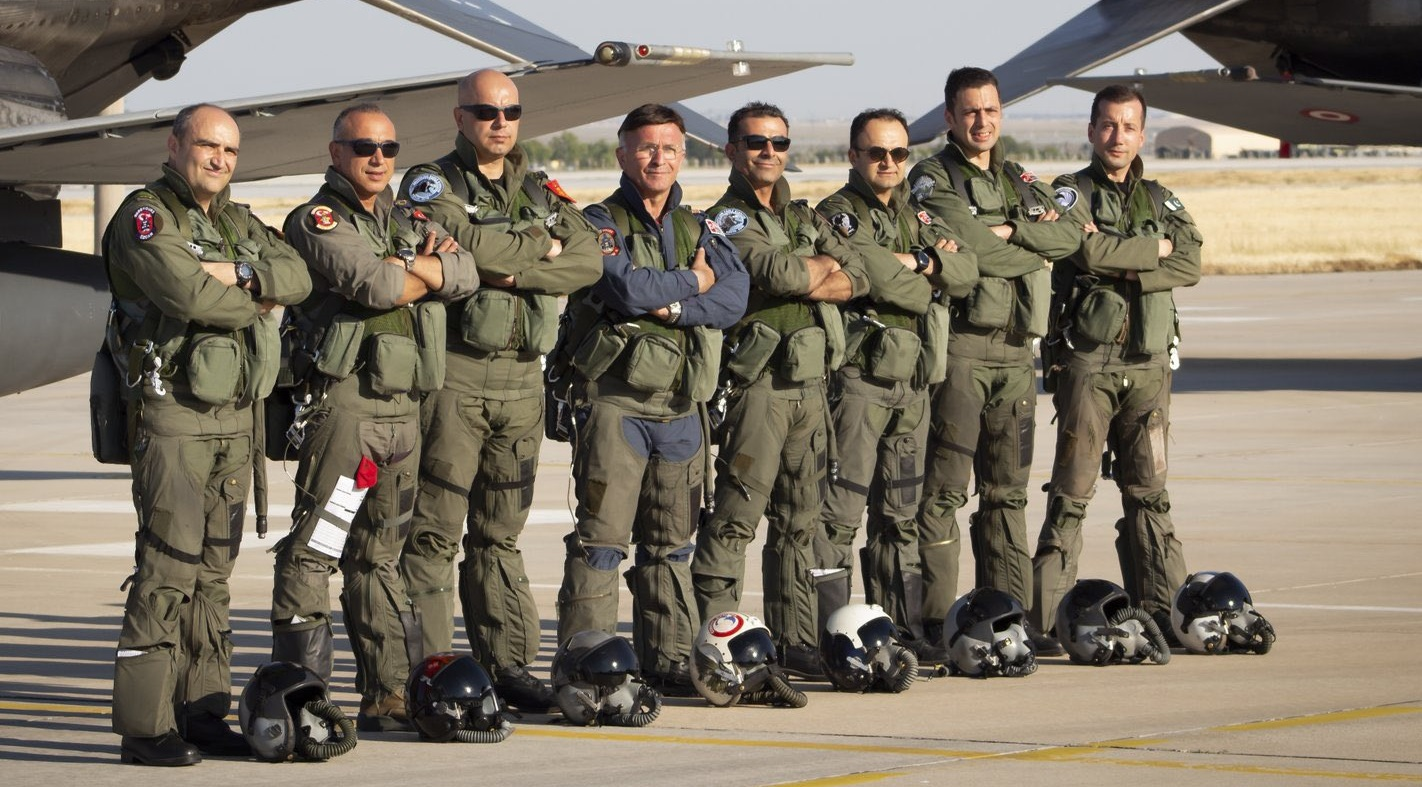F4: (1, 1, 856, 397), (907, 1, 1422, 148)
